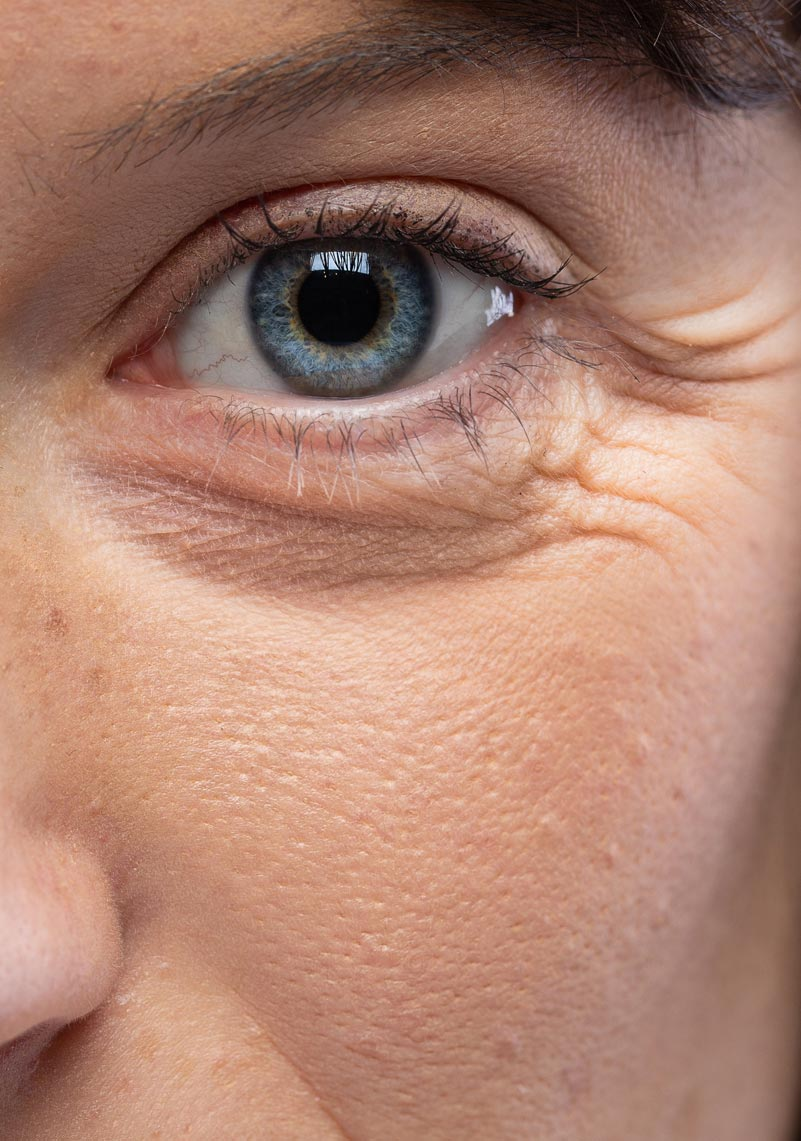Kerutan: (409, 256, 798, 670)
